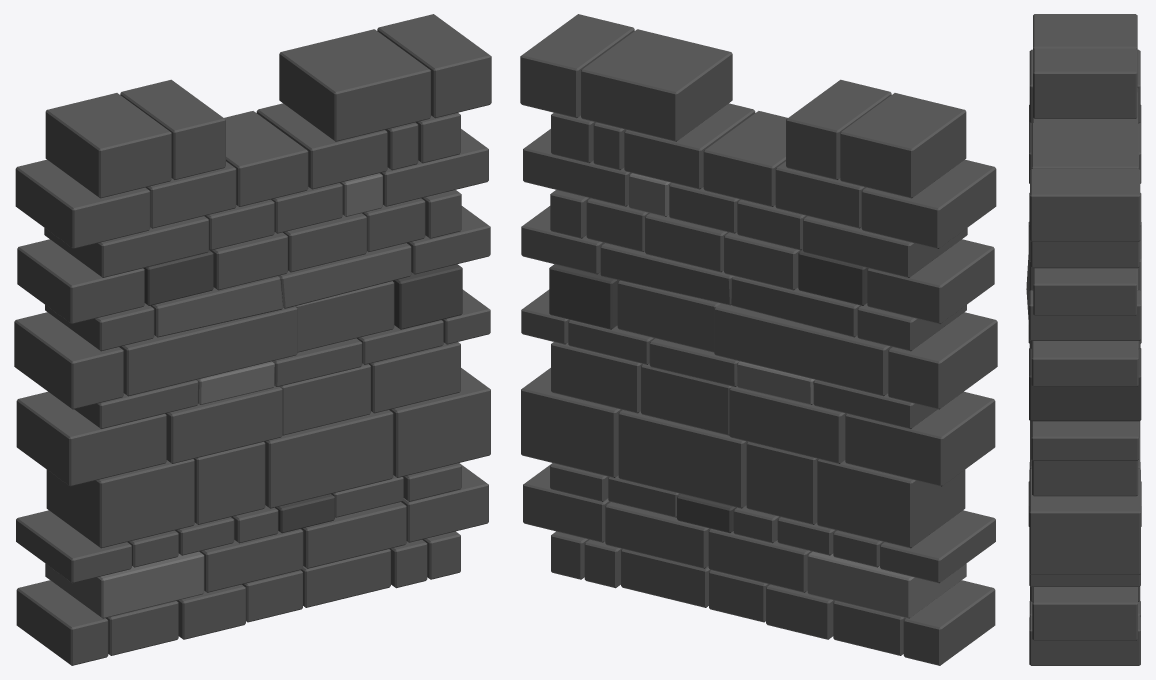
The model's file is wall_nowindow.fbx.
3 views of the same model, side by side, from view 1: azimuth 30°, elevation 25°; view 2: azimuth 150°, elevation 25°; view 3: azimuth 270°, elevation 25° (orthographic). The views are drawn at different scales.
Parts seen in each view (by area): view 1: Wall.003; view 2: Wall.003; view 3: Wall.003.
Boxes of the visible parts, x1=… form: Wall.003: x1=14, y1=14, x2=491, y2=665; Wall.003: x1=520, y1=14, x2=997, y2=665; Wall.003: x1=1026, y1=14, x2=1141, y2=665.
Bounding box in the file's own units: 86 × 99.64 × 21.4.
